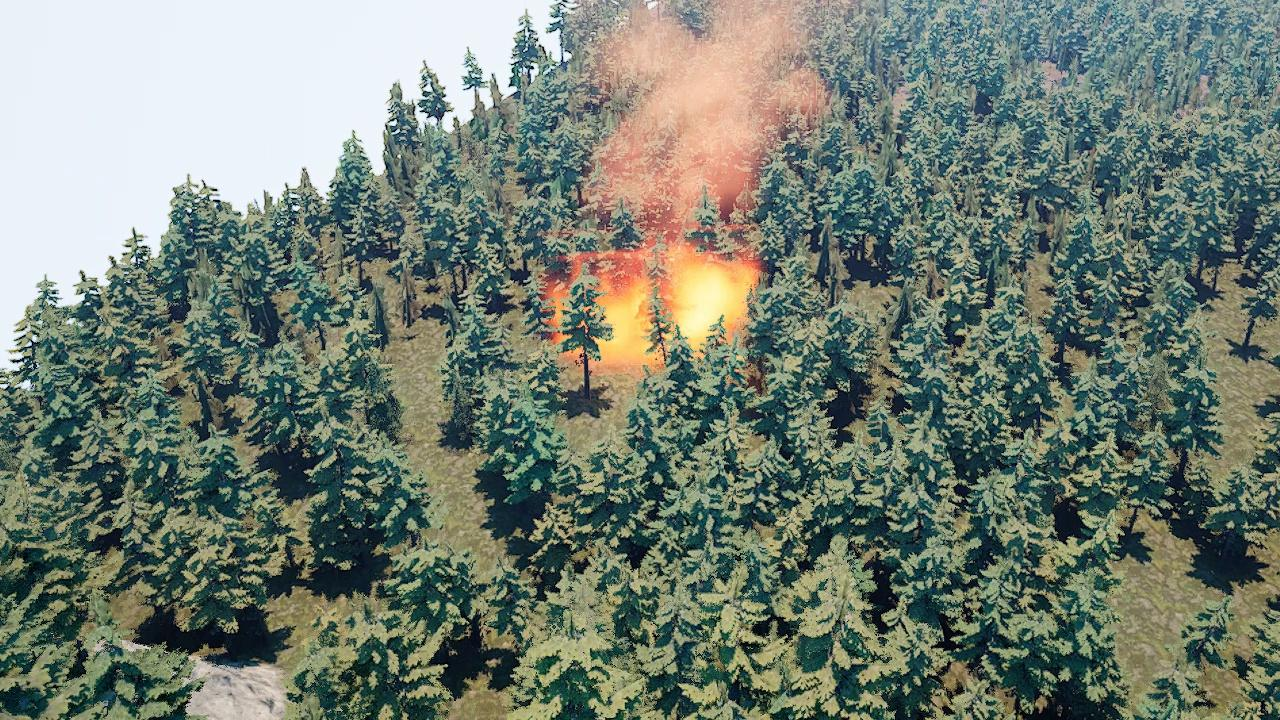fire: (553, 243, 764, 369)
smoke: (573, 0, 868, 239)
